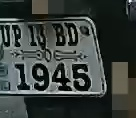1: (13, 62, 31, 91), (27, 25, 38, 48)
3: (35, 25, 50, 48)
4: (51, 62, 73, 92)
5: (70, 63, 93, 92)
9: (30, 62, 51, 94)
B: (51, 22, 67, 49)
D: (66, 23, 81, 49)
P: (11, 25, 23, 47)
U: (1, 24, 12, 48)
